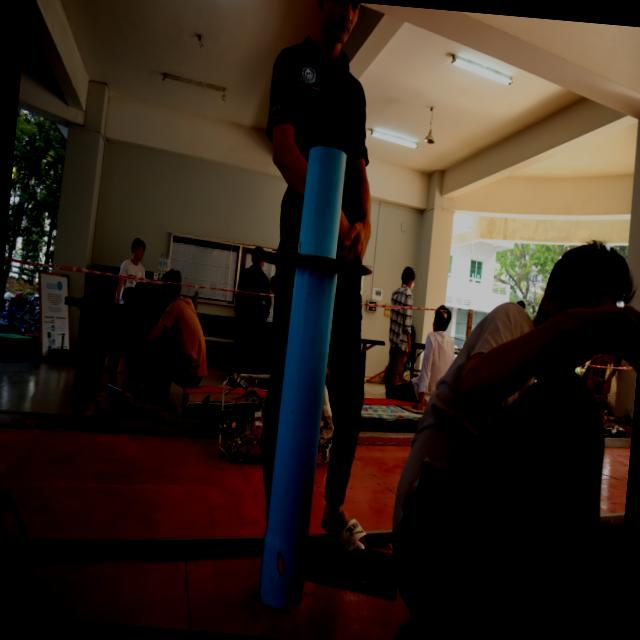pole: (247, 136, 391, 380)
